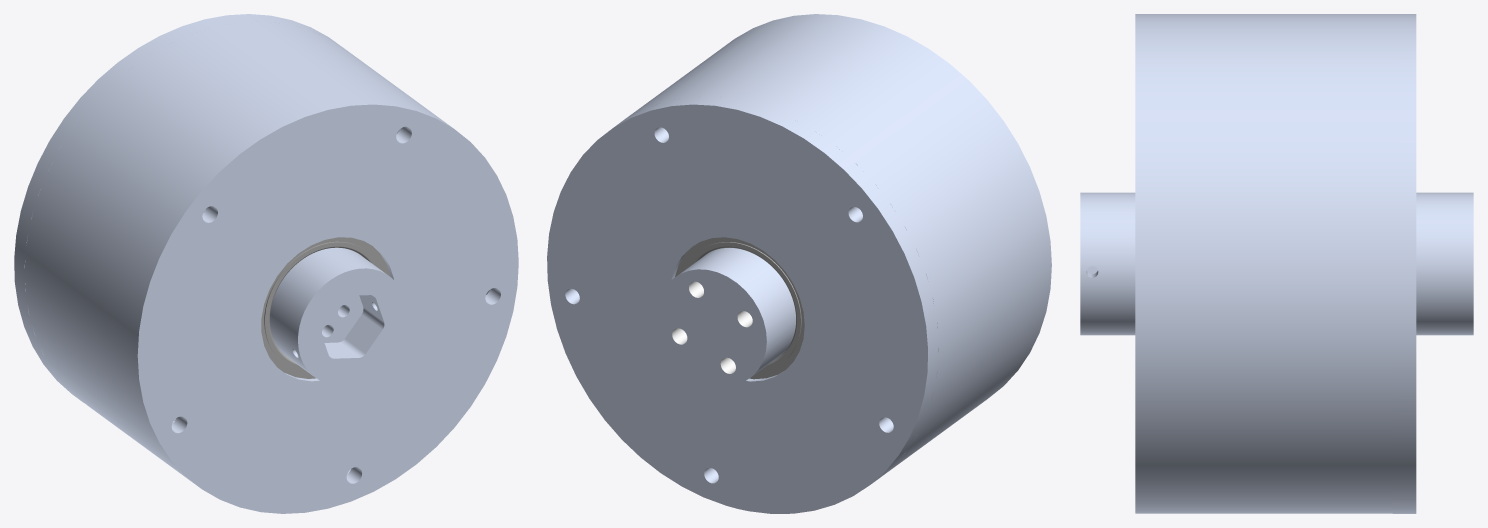
The model's file is elbow.glb.
3 renders of one model, left to right at view 1: azimuth 30°, elevation 25°; view 2: azimuth 150°, elevation 25°; view 3: azimuth 270°, elevation 25°, orthographic. The views are drawn at different scales.
Visible parts, largest first — view 1: housing 1-1, shaft_1-1, housing 2-1, 6806ZZ Inner ring-1, 6806ZZ Shield-1; view 2: housing 2-1, housing 1-1, output disk 2-1, 6806ZZ Inner ring-1, 6806ZZ Shield-2; view 3: housing 1-1, housing 2-1, output disk 2-1, shaft_1-1.
Part boxes in pixels (box(x1,y1,x2,y2)): housing 1-1: box(24, 21, 518, 513); shaft_1-1: box(269, 247, 406, 385); housing 2-1: box(14, 14, 338, 420); 6806ZZ Inner ring-1: box(264, 241, 380, 371); 6806ZZ Shield-1: box(261, 237, 390, 378); housing 2-1: box(547, 97, 938, 513); housing 1-1: box(577, 14, 1051, 475); output disk 2-1: box(658, 248, 795, 386); 6806ZZ Inner ring-1: box(685, 242, 801, 371); 6806ZZ Shield-2: box(675, 237, 804, 379); housing 1-1: box(1135, 14, 1392, 513); housing 2-1: box(1392, 14, 1416, 513); output disk 2-1: box(1416, 192, 1473, 335); shaft_1-1: box(1080, 192, 1135, 335).
Size of the model in its own units: 0.105 by 0.105 by 0.0825.
